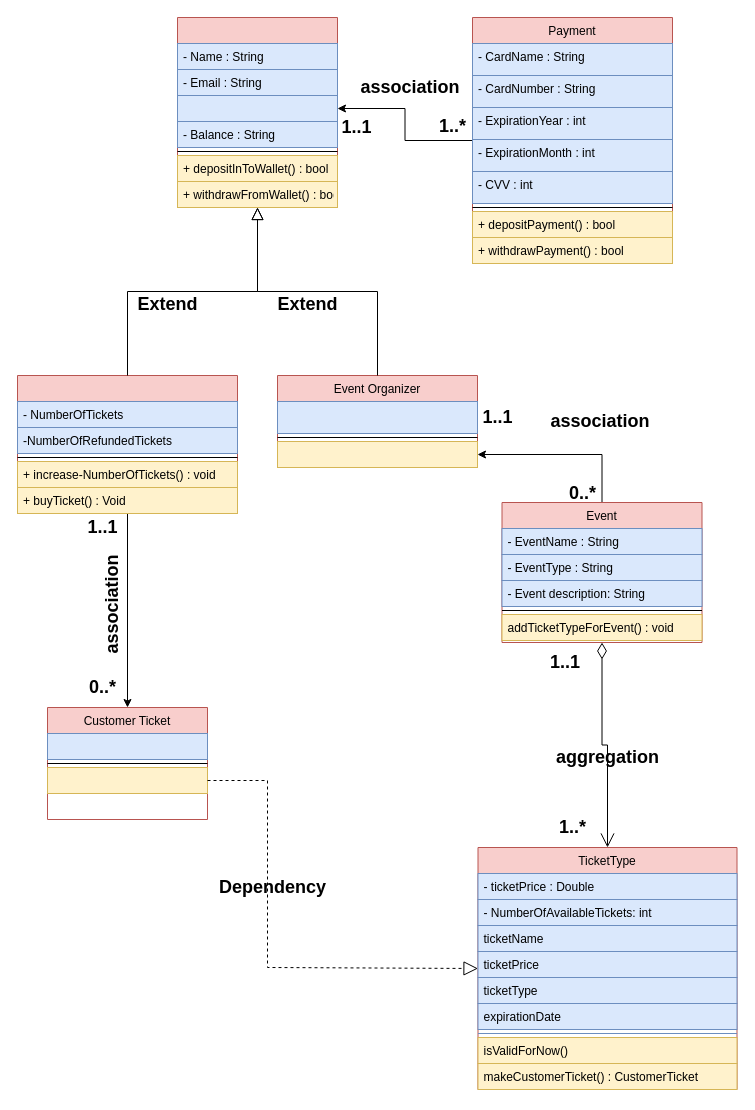
Some shapes in this 755 by 1110 pixel diagram are drawn without their labels. Here are the shapes that lost their labels. From the top down, the box of each, then its label:
(176, 94, 338, 122): - Password : String
(176, 16, 338, 208): Account
(276, 400, 478, 434): - NumberOfEvents
(16, 374, 238, 514): Customer
(276, 440, 478, 468): + increaseNumberOfEvents() : viod
(46, 732, 208, 760): TicketID: String
(46, 766, 208, 794): +refundTicket() : Bool
